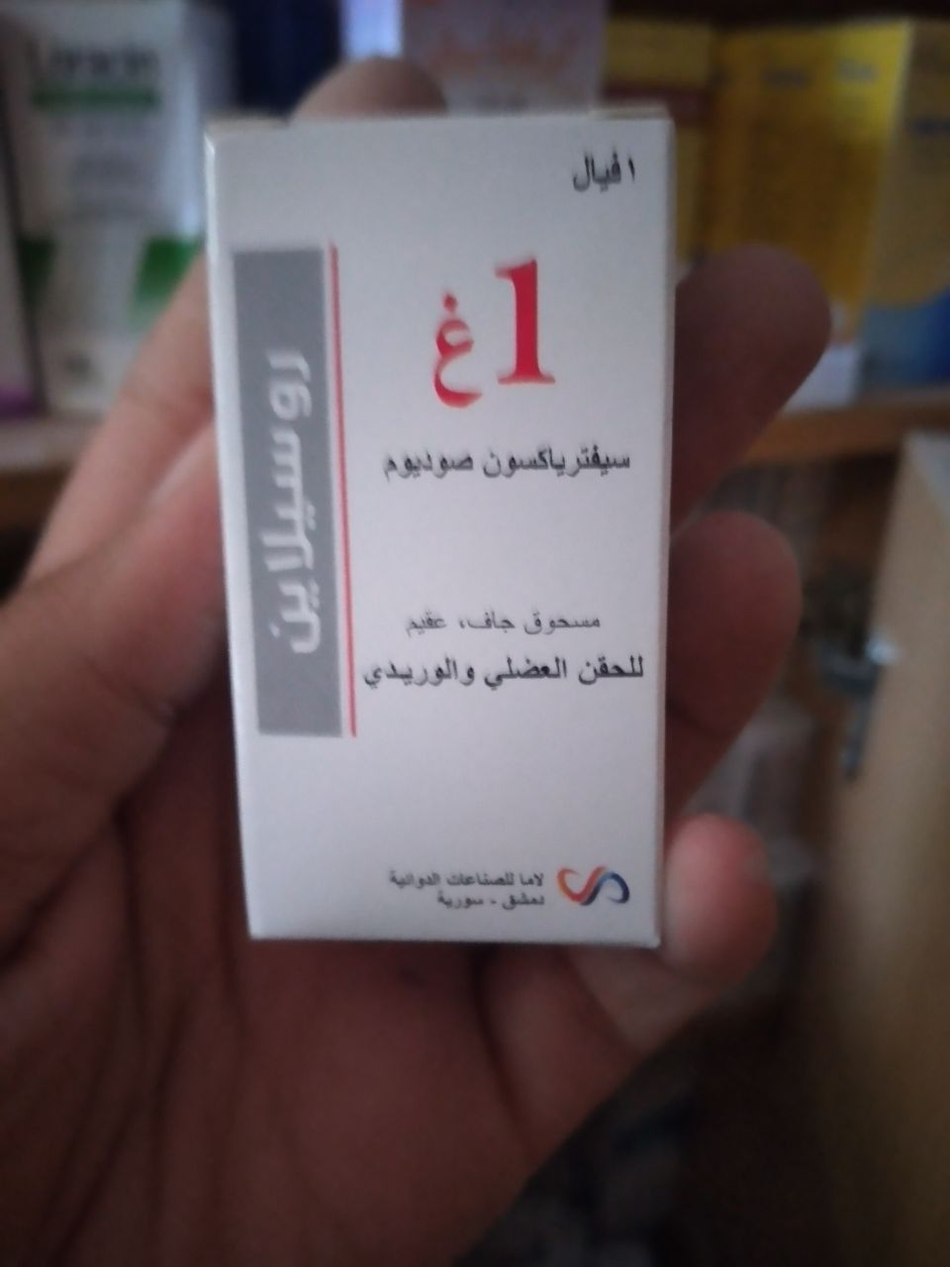Medicine: (181, 109, 693, 987)
